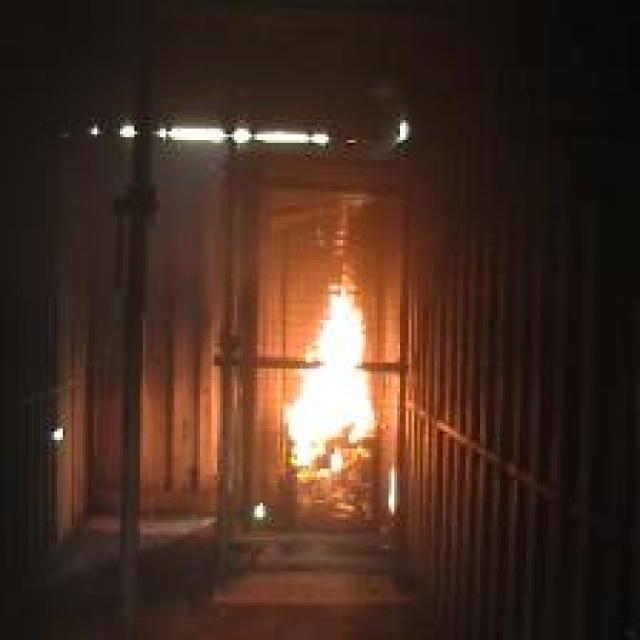Fire: (281, 261, 376, 473)
